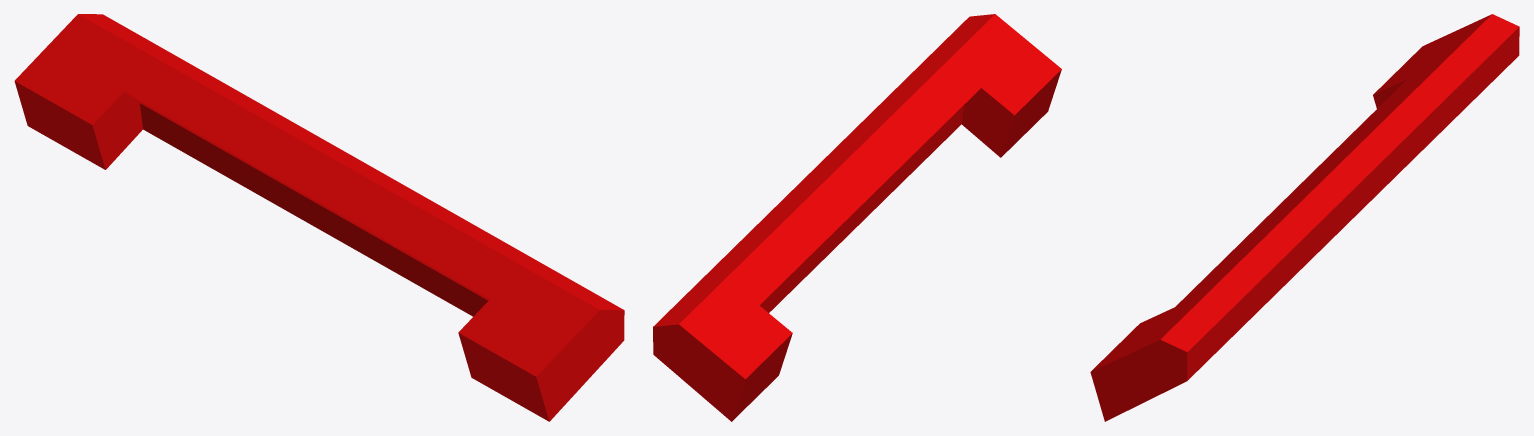
The model's file is supermarket_group_17_lev1.glb.
3 renders of one model, left to right at view 1: azimuth 30°, elevation 25°; view 2: azimuth 150°, elevation 25°; view 3: azimuth 330°, elevation 25°, orthographic. The views are drawn at different scales.
Visible parts, largest first — view 1: supermarket_group_17_lev1; view 2: supermarket_group_17_lev1; view 3: supermarket_group_17_lev1.
Boxes of the visible parts, box(x1,y1,x2,y2) form: supermarket_group_17_lev1: box(14, 14, 624, 421); supermarket_group_17_lev1: box(653, 14, 1061, 421); supermarket_group_17_lev1: box(1090, 14, 1519, 421).
Bounding box in the file's own units: 0.2124 × 0.1068 × 0.886.
